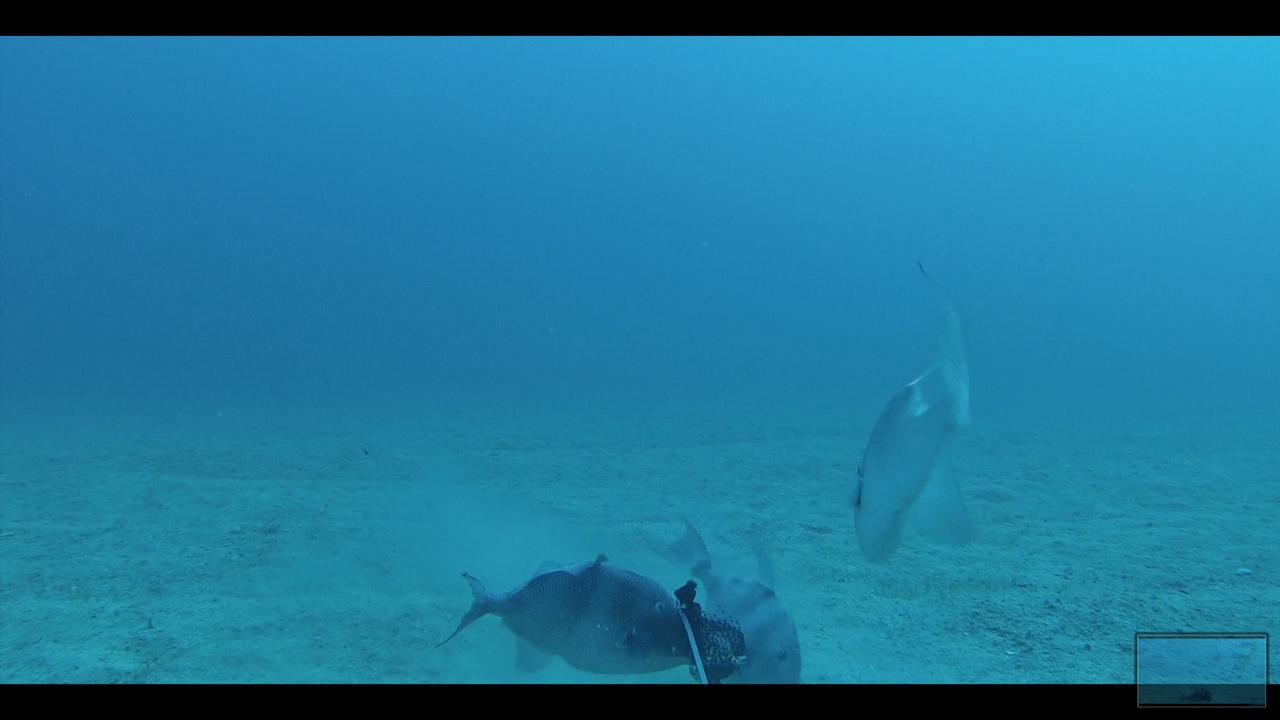balistes: (844, 254, 981, 565), (433, 551, 692, 675), (640, 517, 801, 681)
